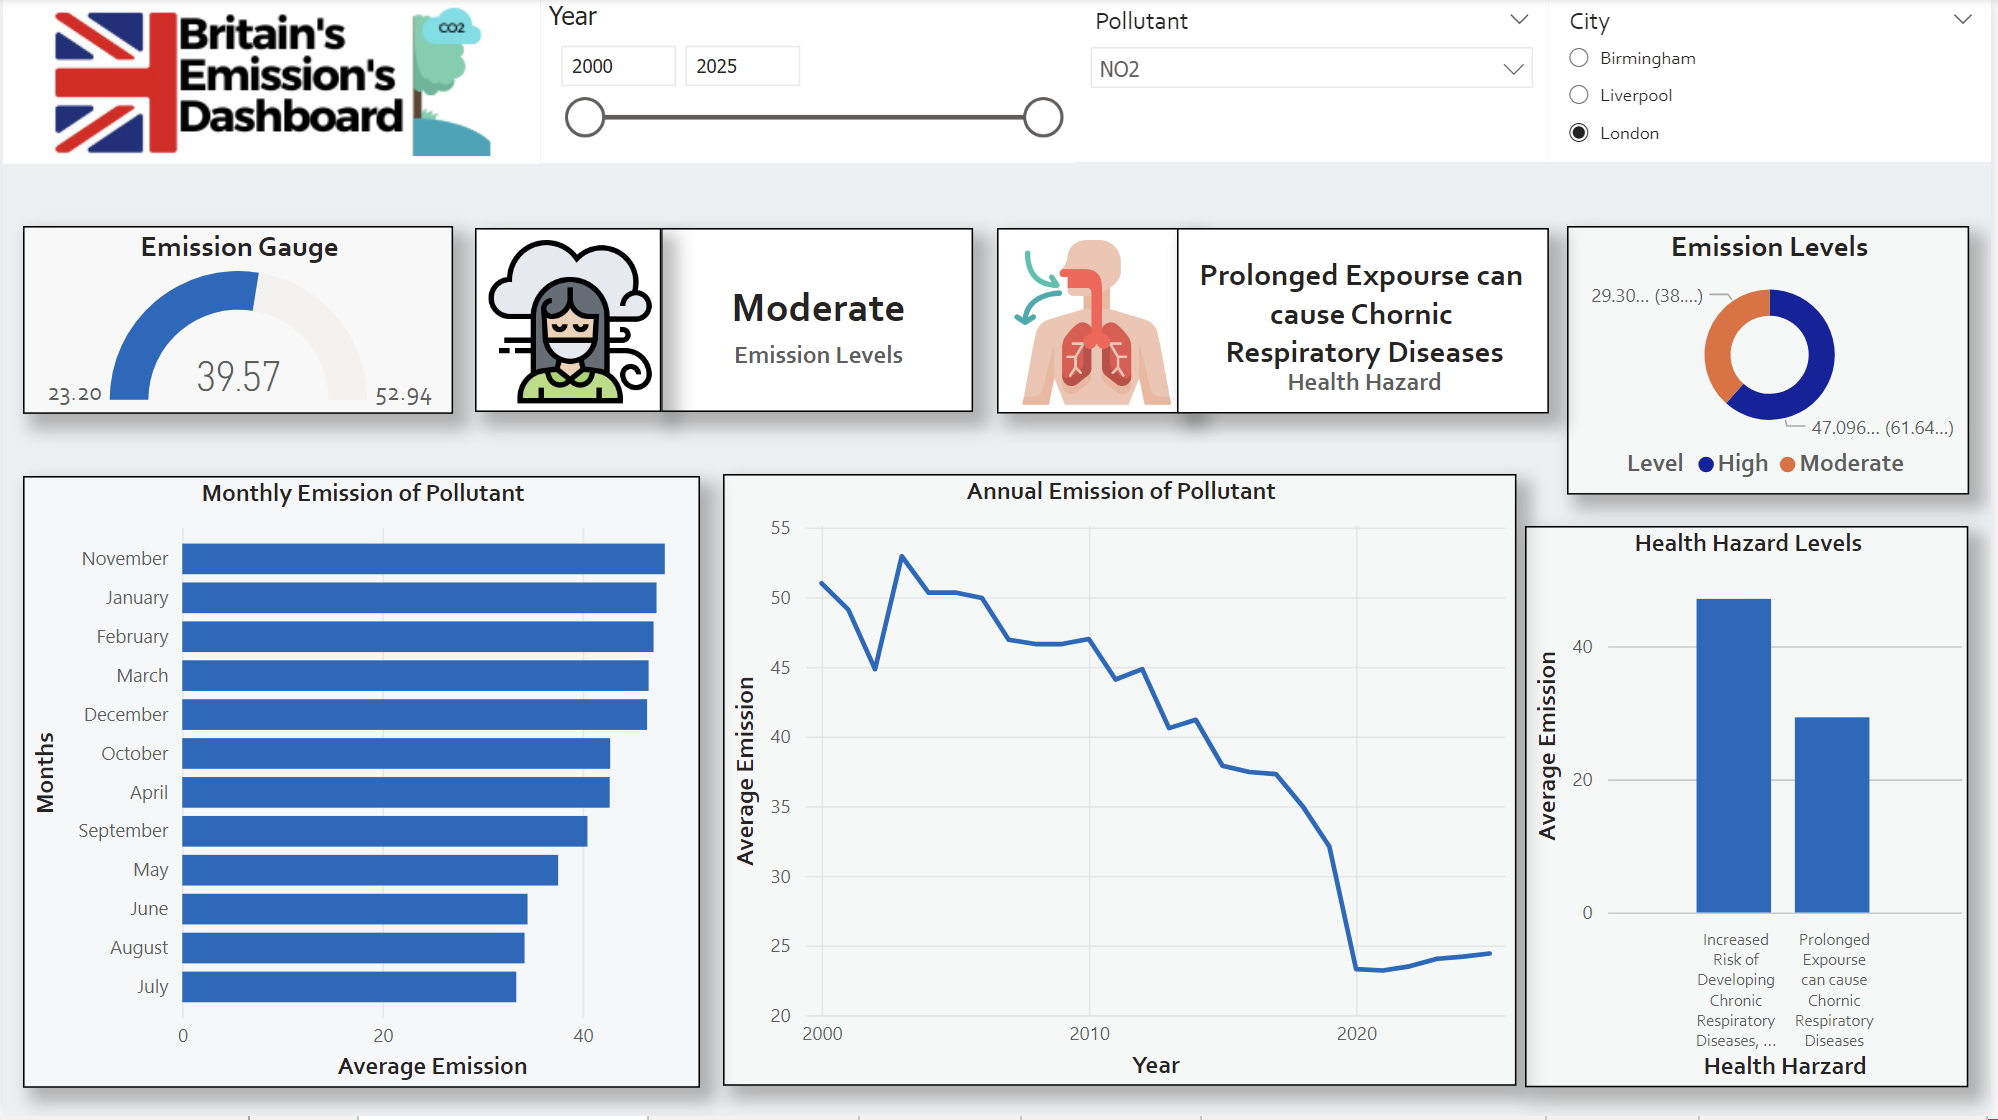

The dashboard page shown, as its layout file describes it:
{"tool":"powerbi","page":{"name":"Duplicate of Page 1","canvas":[1280,720],"ordinal":1},"visuals":[{"type":"image","box":[639.8,147.7,126,119.5],"z":0,"group":"g2"},{"type":"card","fields":{"Values":["Max(Consolidated.Level)"]},"box":[423.5,147.9,200.9,118.3],"z":0,"group":"g1"},{"type":"lineChart","title":"Annual Emission of Pollutant ","fields":{"Category":["Consolidated.Year"],"Y":["Avg(Consolidated.Value)"]},"box":[464,306.8,510.8,394],"z":0},{"type":"card","fields":{"Values":["Max(Consolidated.Cause)"]},"box":[756.1,147.7,239.5,119.5],"z":1000,"group":"g2"},{"type":"image","box":[303.6,147.9,119.9,118.3],"z":1000,"group":"g1"},{"type":"clusteredBarChart","title":"Monthly Emission of Pollutant","fields":{"Category":["ConsolidatedMonth.Attribute"],"Y":["Avg(ConsolidatedMonth.Value)"]},"box":[12.7,308,435.9,393.8],"z":1000},{"type":"slicer","title":"Year","fields":{"Values":["Year.Year"]},"box":[345.9,1.3,344.6,105.1],"z":2000},{"type":"slicer","fields":{"Values":["Pollutant.Pollutant"]},"box":[690.5,0,305.2,105.5],"z":3000},{"type":"donutChart","title":"Emission Levels","fields":{"Y":["Avg(Consolidated.Value)"],"Category":["Consolidated.Level"]},"box":[1007,146.4,259,172.8],"z":4000},{"type":"slicer","fields":{"Values":["City.City"]},"box":[995.6,0,285.5,105.5],"z":5000},{"type":"gauge","title":"Emission Gauge","fields":{"Y":["Avg(Consolidated.Value)"],"MinValue":["Min(Consolidated.Value)1"],"MaxValue":["Max(Consolidated.Value)2"]},"box":[12.7,146.2,277,120.9],"z":6000},{"type":"clusteredColumnChart","title":"Health Hazard Levels","fields":{"Category":["Consolidated.Cause"],"Y":["Avg(Consolidated.Value)"]},"box":[980.2,340.3,285.5,361.4],"z":7000},{"type":"group","id":"g1","title":"Group 1","box":[303.6,147.9,320.8,118.3],"z":8000},{"type":"group","id":"g2","title":"Group 2","box":[639.8,147.7,355.8,119.5],"z":9000},{"type":"image","box":[0,1.4,345.9,105.5],"z":10000}]}

Visuals, with their boxes in screenshot pixels (x1, y1, x2, y2), scaled from the page's 1280x720 canvas onto the 1998x1120 screenshot:
image: crop(999, 230, 1195, 416)
card - Max(Consolidated.Level): crop(661, 230, 975, 414)
"Annual Emission of Pollutant " lineChart: crop(724, 477, 1522, 1090)
card - Max(Consolidated.Cause): crop(1180, 230, 1554, 416)
image: crop(474, 230, 661, 414)
"Monthly Emission of Pollutant" clusteredBarChart: crop(20, 479, 700, 1092)
"Year" slicer: crop(540, 2, 1078, 166)
slicer - Pollutant.Pollutant: crop(1078, 0, 1554, 164)
"Emission Levels" donutChart: crop(1572, 228, 1976, 497)
slicer - City.City: crop(1554, 0, 1997, 164)
"Emission Gauge" gauge: crop(20, 227, 452, 415)
"Health Hazard Levels" clusteredColumnChart: crop(1530, 529, 1976, 1092)
"Group 1" group: crop(474, 230, 975, 414)
"Group 2" group: crop(999, 230, 1554, 416)
image: crop(0, 2, 540, 166)
